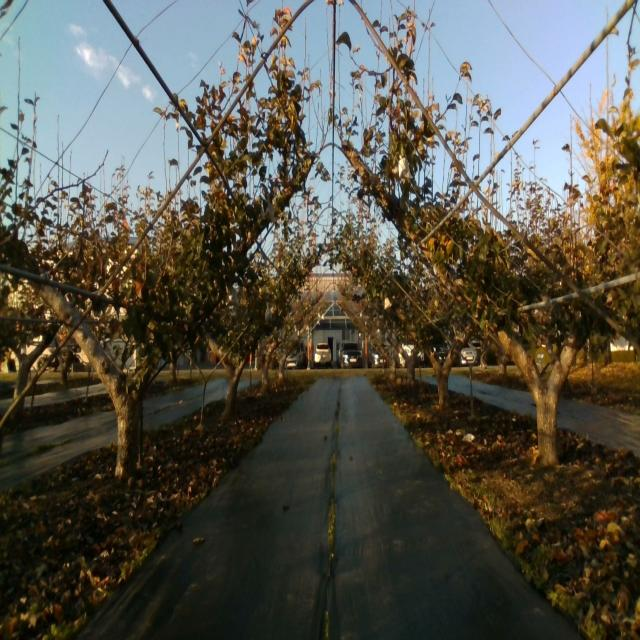pearbags: (398, 154, 413, 179), (225, 289, 240, 306)
